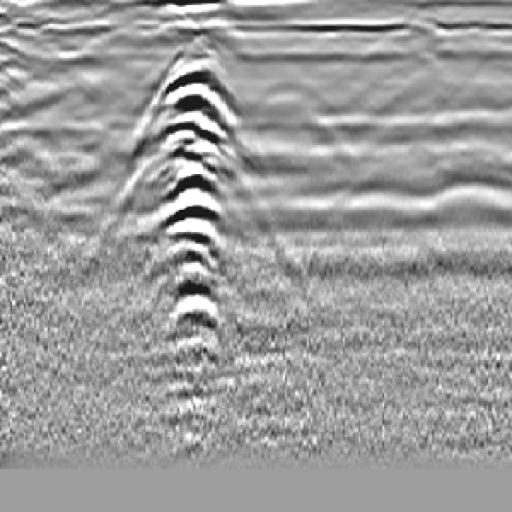metalic: (152, 42, 239, 368)
nonmetalic: (233, 73, 364, 202)
